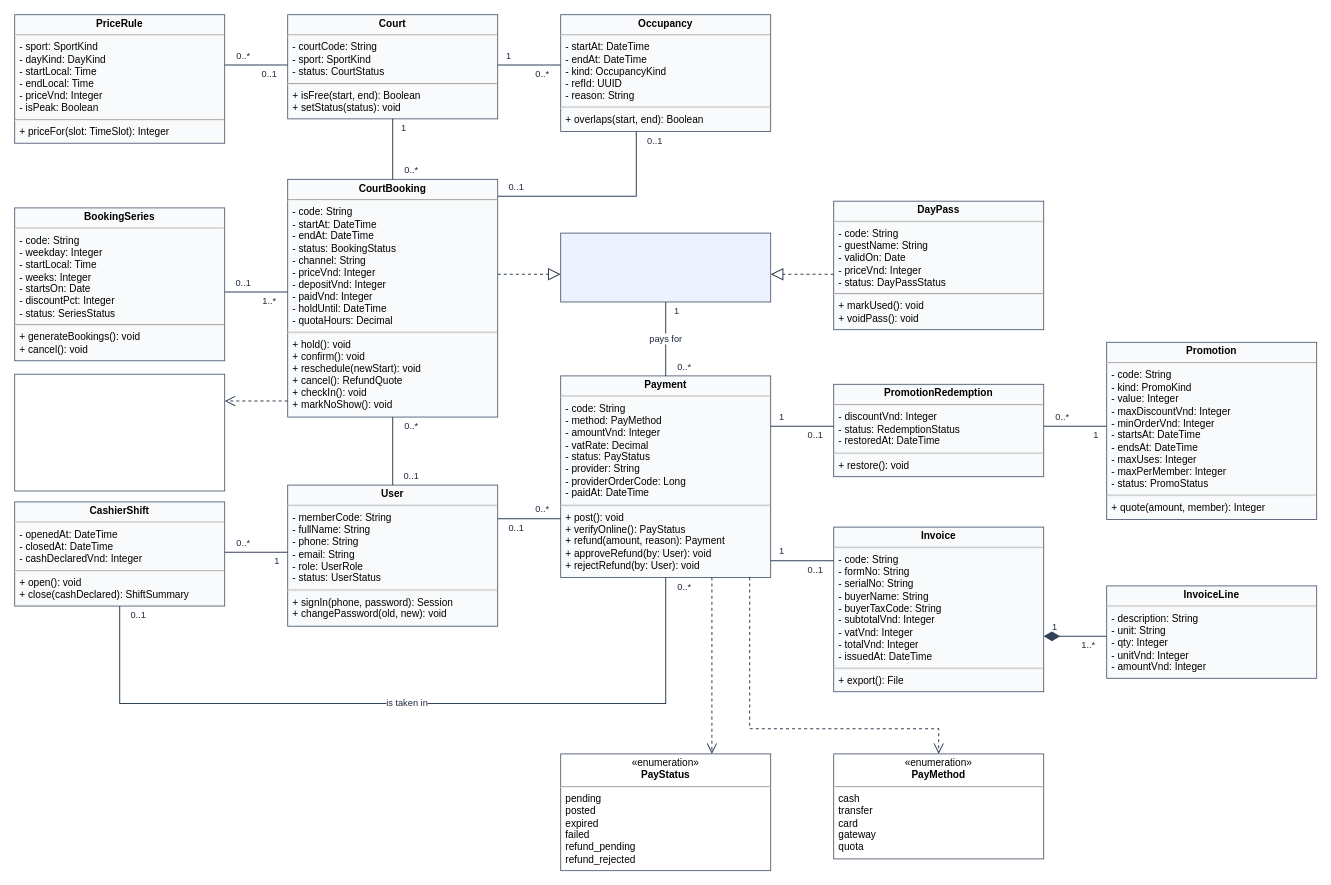
Image size: 1331x885. Some labels were removed from this diagram. Each missing label, with the box of its shape:
«enumeration» BookingStatus hold confirmed in_use completed cancelled no_show: (14, 373, 225, 491)
«interface» Payable + amountDue(): Integer + settle(payment: Payment): void: (560, 232, 771, 302)
